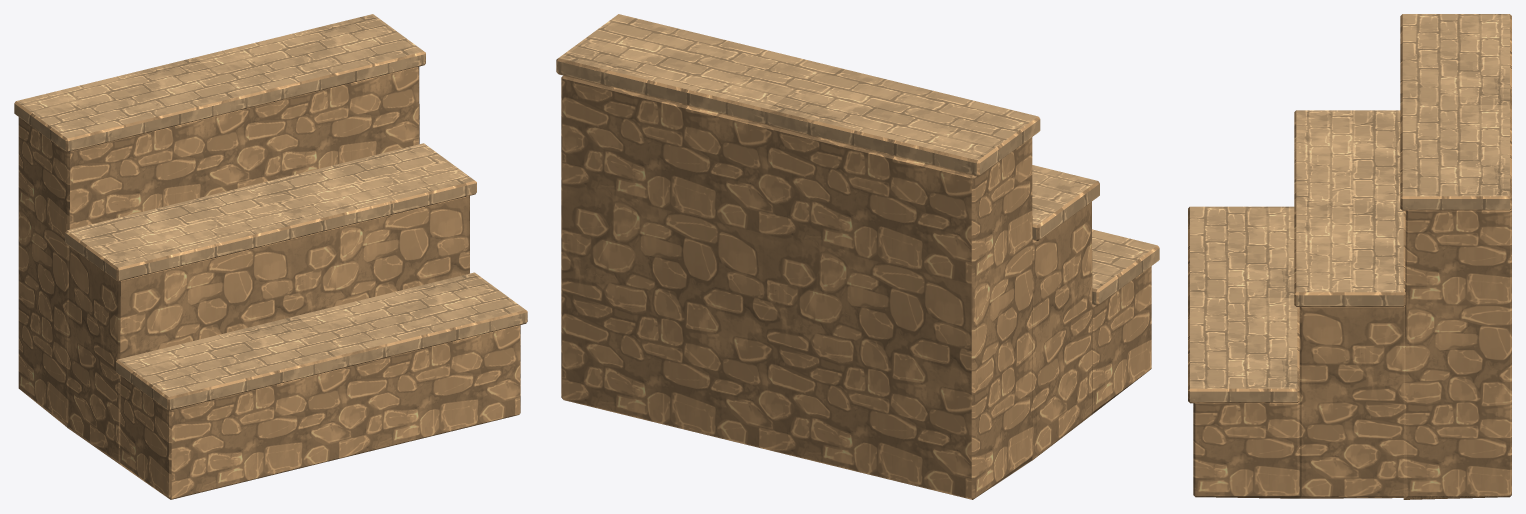
Rendered from wall_stepped.gltf.
3 renders of one model, left to right at view 1: azimuth 30°, elevation 25°; view 2: azimuth 150°, elevation 25°; view 3: azimuth 270°, elevation 25°, orthographic. The views are drawn at different scales.
Visible parts, largest first — view 1: wall_stepped; view 2: wall_stepped; view 3: wall_stepped.
Boxes of the visible parts, box(x1,y1,x2,y2) form: wall_stepped: box(14, 14, 527, 499); wall_stepped: box(556, 14, 1159, 499); wall_stepped: box(1188, 14, 1511, 499).
Bounding box in the file's own units: 4.1 × 3.17 × 3.05.
2 materials, 2 textured.
